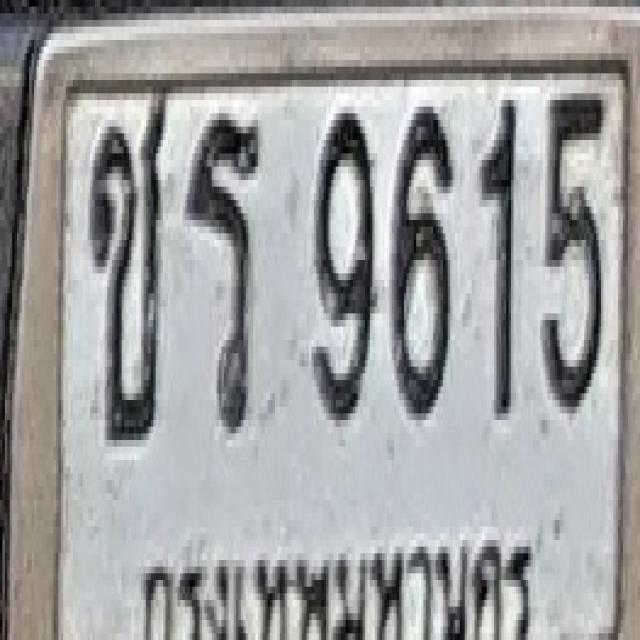-: (89, 84, 169, 444), (185, 114, 260, 434)
1: (478, 93, 517, 420)
5: (541, 87, 605, 413)
6: (392, 100, 452, 420)
9: (311, 106, 375, 426)
BKK: (130, 507, 538, 640)
